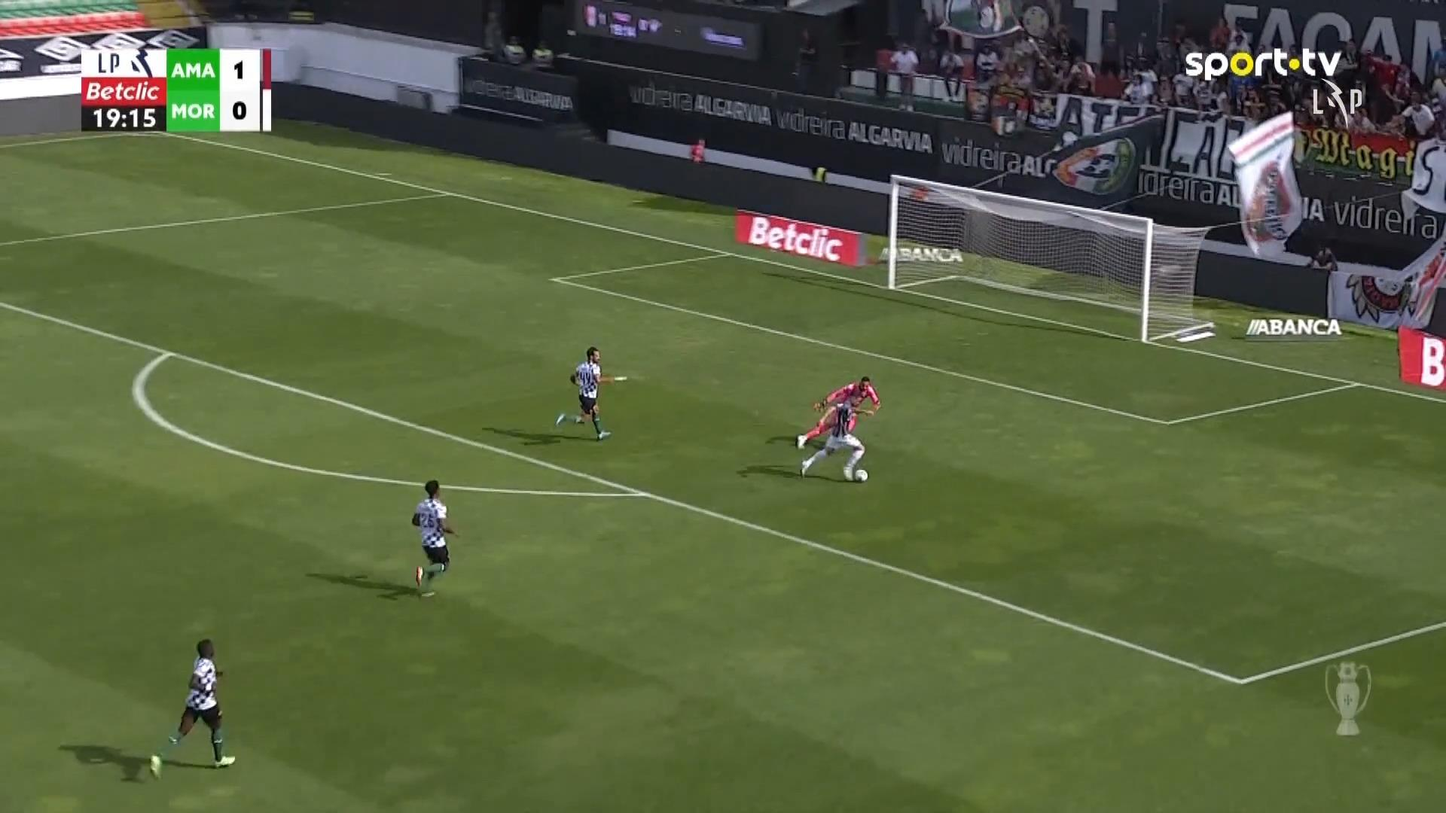ball: (854, 467, 868, 481)
goalkeeper: (794, 374, 881, 450)
player: (148, 637, 236, 779), (795, 392, 865, 482), (554, 346, 615, 440), (410, 478, 458, 595)
